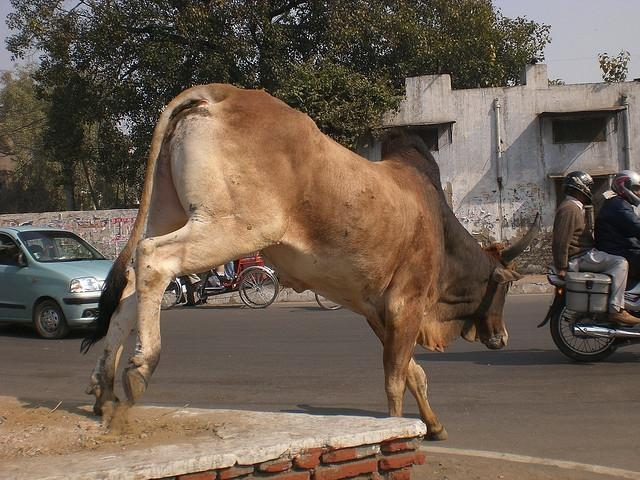bicycle: (160, 264, 278, 311), (314, 294, 342, 310)
car: (1, 227, 117, 340)
motorcycle: (553, 264, 638, 359)
